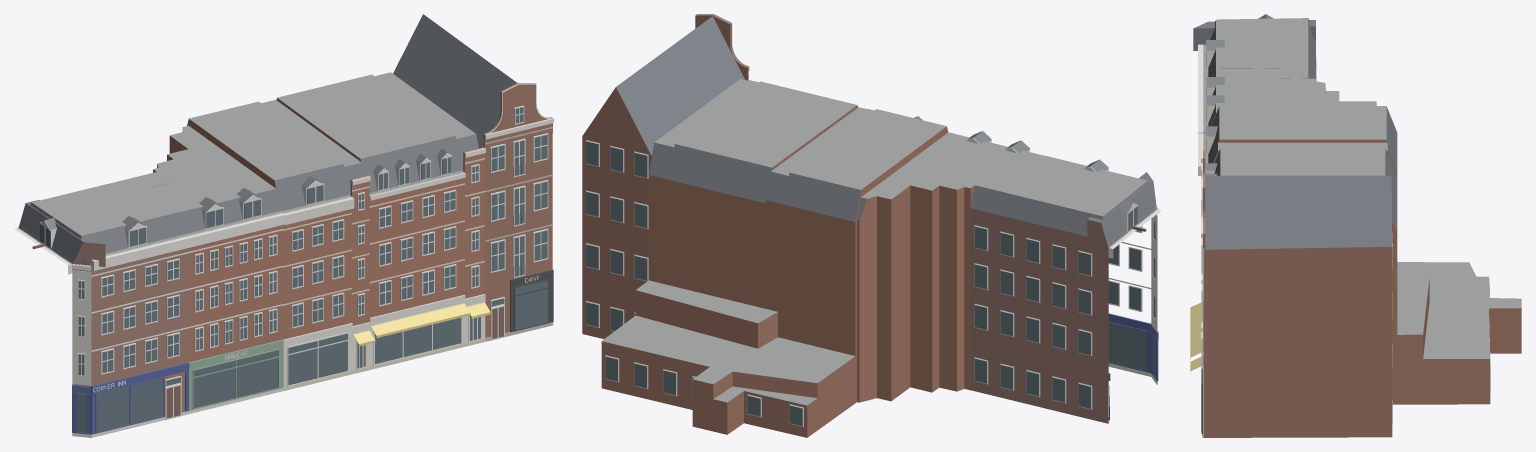
The model's file is chunk-face-bilder-233580-162444-rowfront.glb.
3 renders of one model, left to right at view 1: azimuth 30°, elevation 25°; view 2: azimuth 150°, elevation 25°; view 3: azimuth 270°, elevation 25°, orthographic. The views are drawn at different scales.
Parts seen in each view (by area): view 1: face-bilder-233580-162444; view 2: face-bilder-233580-162444; view 3: face-bilder-233580-162444.
Boxes of the visible parts, x1,y1,x2,y2 form: face-bilder-233580-162444: (14, 14, 553, 437); face-bilder-233580-162444: (582, 14, 1161, 437); face-bilder-233580-162444: (1190, 14, 1521, 437).
Bounding box in the file's own units: 42.81 × 20.97 × 25.55.
